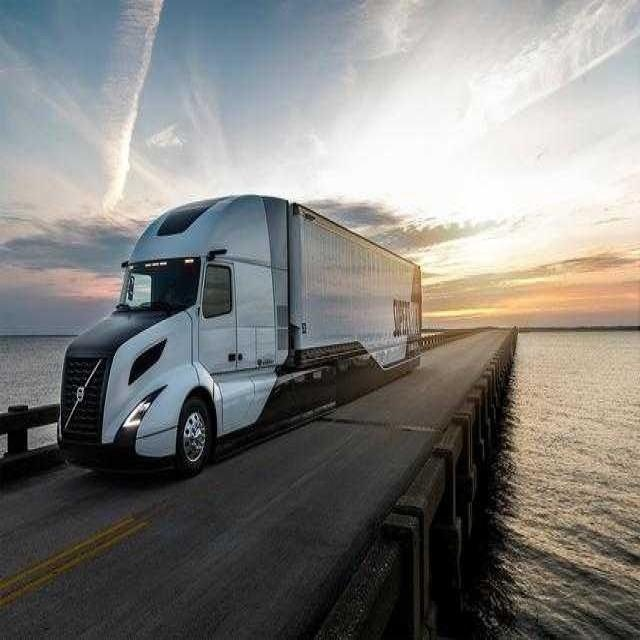Truck: (54, 188, 428, 470)
